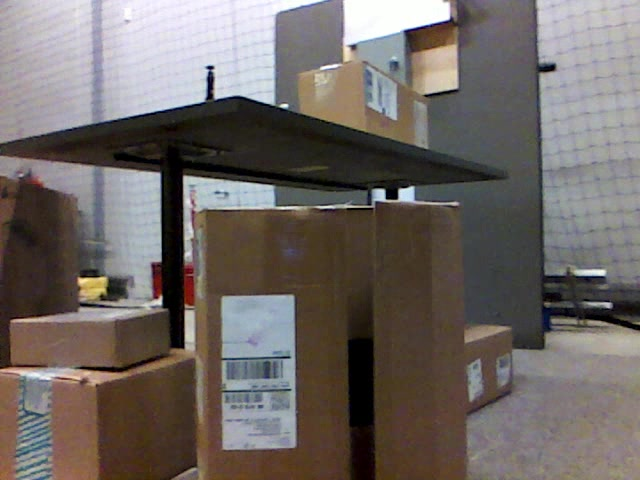box: (196, 199, 468, 476), (2, 351, 195, 477), (297, 60, 430, 146), (1, 178, 81, 315), (10, 311, 169, 366), (463, 323, 513, 411)
